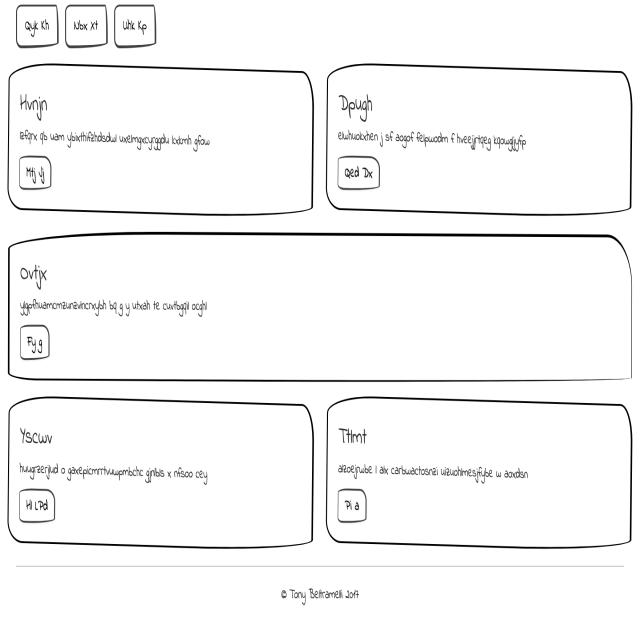Button: (338, 156, 380, 189), (18, 489, 57, 523), (15, 155, 52, 189), (20, 324, 50, 360), (339, 489, 367, 522)
Card: (6, 232, 634, 386), (7, 62, 313, 214), (327, 65, 630, 218), (9, 396, 312, 546)
Footer: (0, 559, 640, 640)
Heading 6: (337, 88, 376, 122), (19, 88, 49, 124), (20, 262, 54, 292), (18, 424, 56, 450), (339, 422, 368, 452)
Navigation Bar: (14, 7, 158, 48)
Paragraph: (326, 398, 631, 542), (19, 294, 210, 324), (337, 459, 531, 486), (336, 126, 526, 153), (20, 128, 211, 154), (19, 461, 210, 486)
